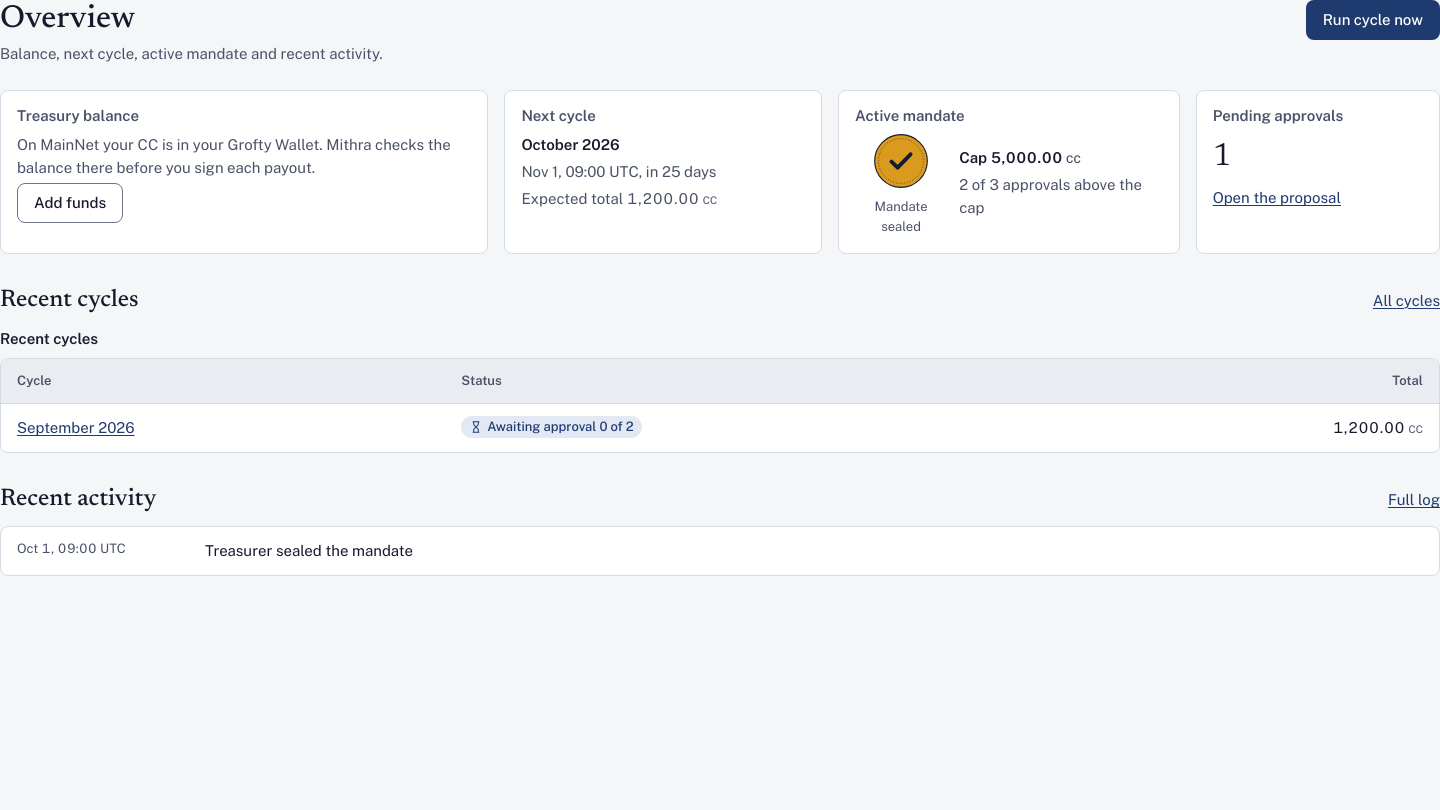
overview page › explains how to add funds on MainNet: send CC to the Grofty Wallet, no faucet
Expected: the text "your CC is in your Grofty Wallet" is shown, [17, 136, 451, 176]
Click the button "Add funds": click(70, 203) [17, 183, 123, 223]
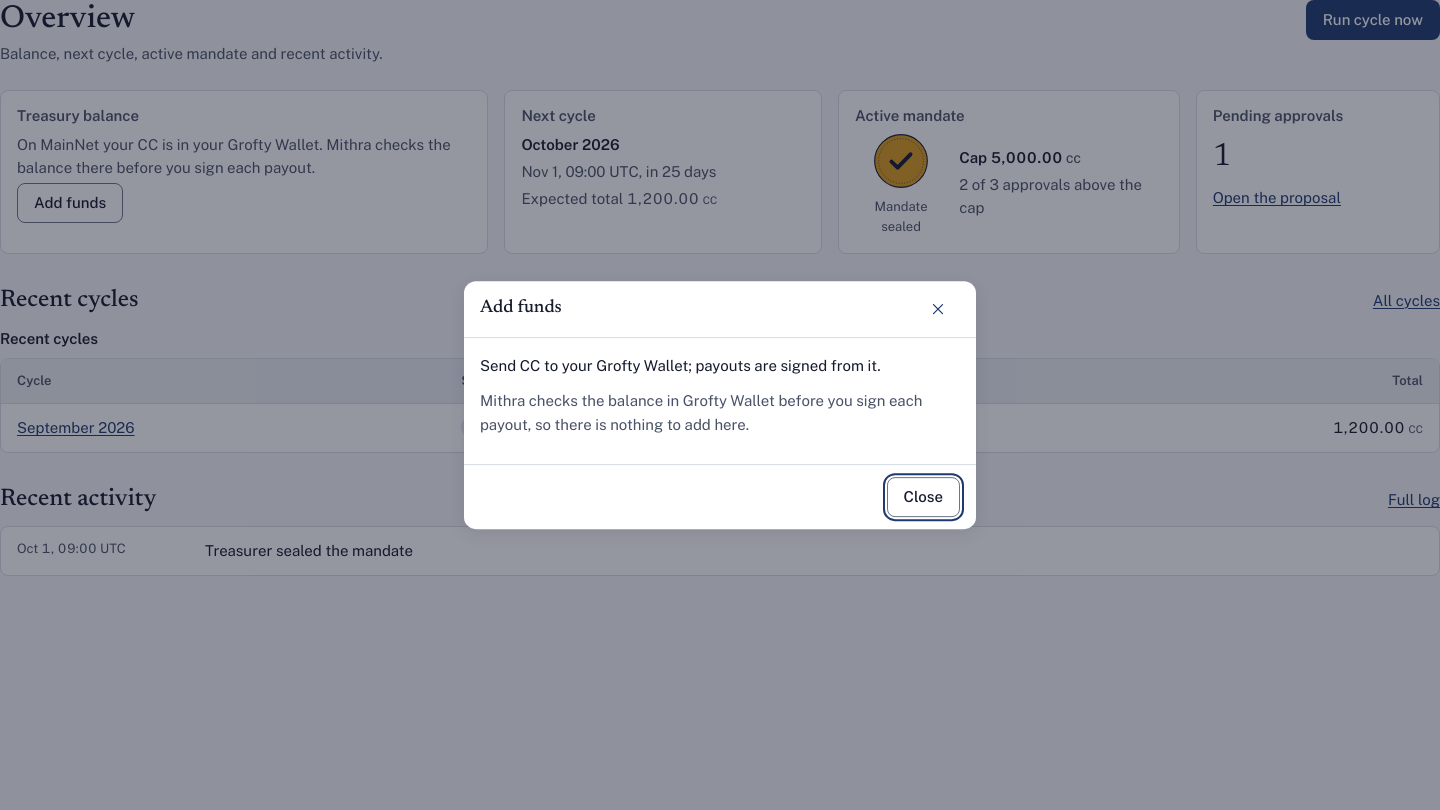
Expected: the text "Send CC to your Grofty Wallet; payouts are signed from it." is shown, [480, 357, 880, 374]
